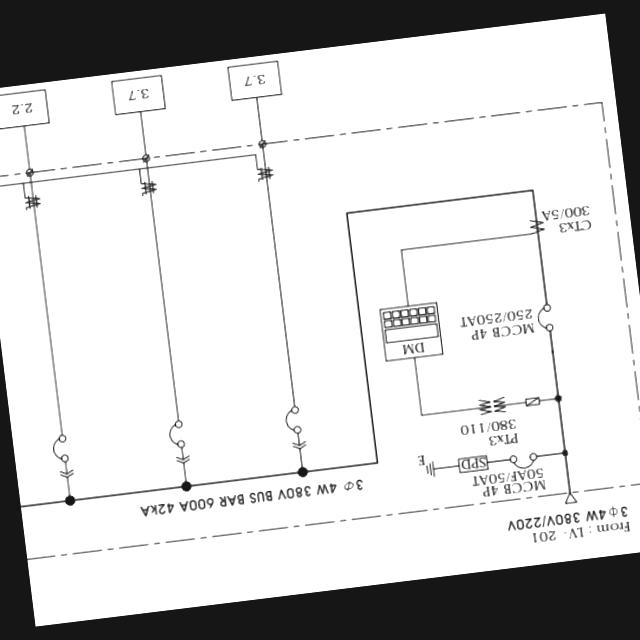CH: (564, 495, 578, 505)
CT: (529, 217, 545, 235)
GND: (426, 460, 436, 479)
MCCB: (167, 421, 186, 450), (284, 406, 302, 436), (510, 452, 538, 470), (537, 304, 554, 333), (52, 435, 68, 464)
PF2: (525, 396, 540, 406)
PT: (478, 396, 507, 416)
ZCT: (24, 192, 42, 210), (140, 180, 159, 196), (256, 166, 275, 181)
